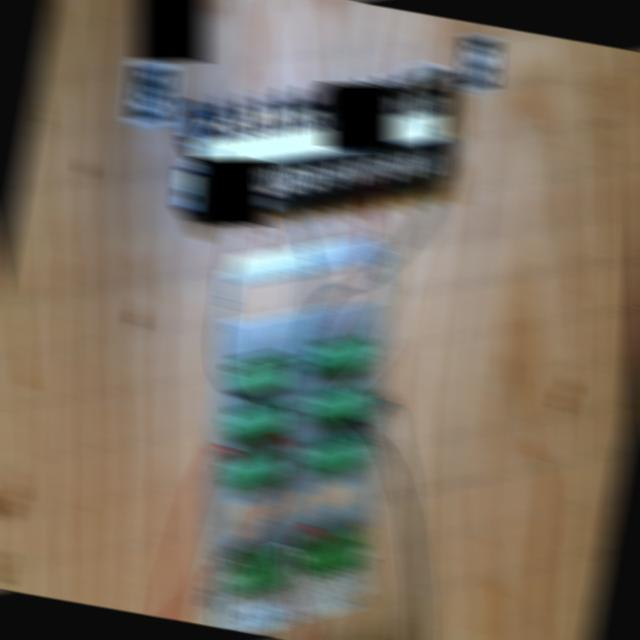Phillips_Block: (164, 70, 470, 208)
Terminal_1: (292, 528, 367, 579), (218, 548, 296, 597)
Terminal_2: (219, 395, 295, 444), (217, 444, 292, 492), (300, 429, 372, 476), (303, 380, 375, 425), (306, 331, 376, 376)
